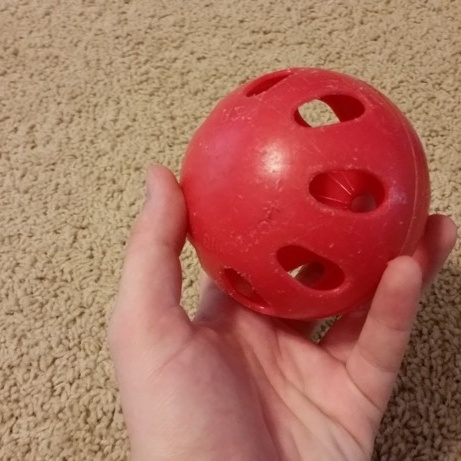redball: (176, 63, 435, 327)
